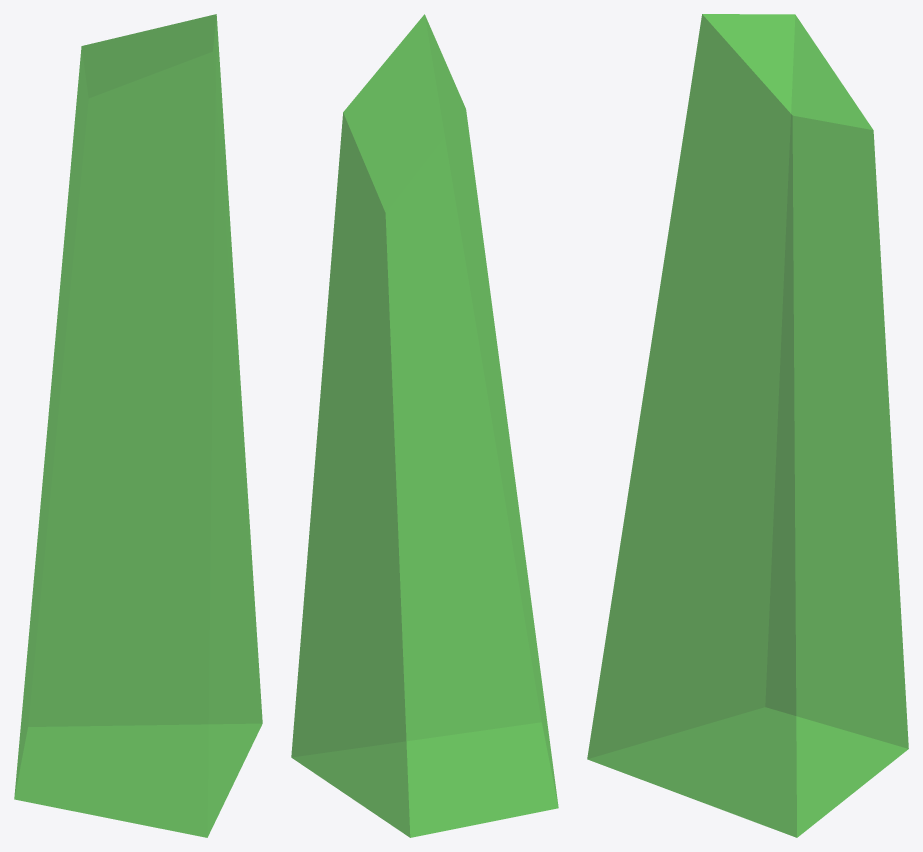
The model's file is Crsytal_5.fbx.
The picture shows the model from 3 angles, left to right: view 1: azimuth 30°, elevation 25°; view 2: azimuth 150°, elevation 25°; view 3: azimuth 270°, elevation 25°; orthographic projection. The views are drawn at different scales.
Visible parts, largest first — view 1: Cube; view 2: Cube; view 3: Cube.
Part boxes in pixels (box(x1,y1,x2,y2)): Cube: box(14, 14, 262, 837); Cube: box(291, 14, 558, 837); Cube: box(587, 14, 908, 837).
Bounding box in the file's own units: 14.12 × 39.16 × 14.68.
